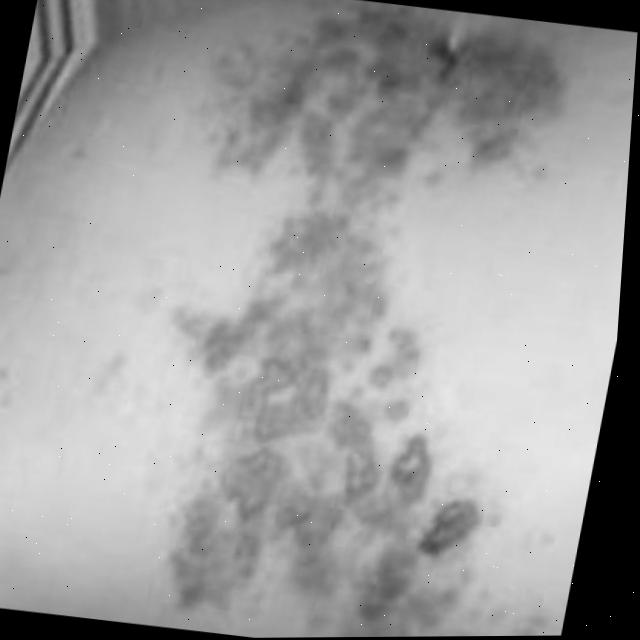Shingles: (140, 0, 585, 639)
